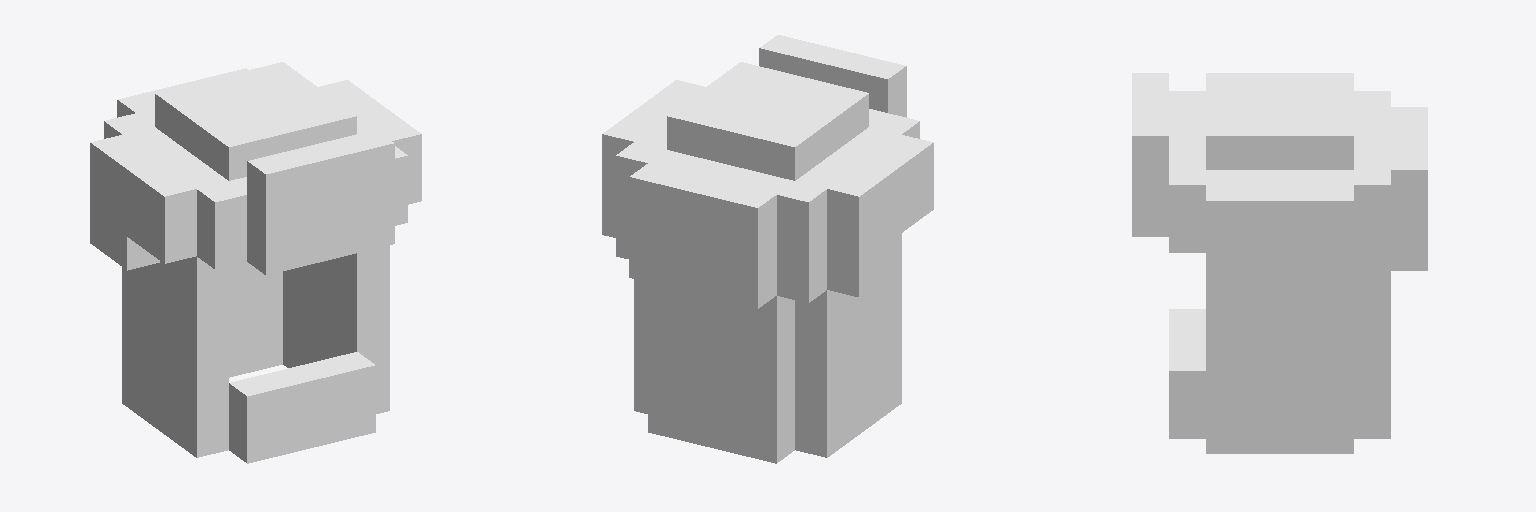
File: char-172-helm_lgt_3f_sh.obj
The picture shows the model from 3 angles: view 1: azimuth 30°, elevation 25°; view 2: azimuth 150°, elevation 25°; view 3: azimuth 270°, elevation 25°; orthographic projection.
Parts seen in each view (by area): view 1: helm_lgt_3f_sh; view 2: helm_lgt_3f_sh; view 3: helm_lgt_3f_sh.
Boxes of the visible parts, x1=… form: helm_lgt_3f_sh: x1=90, y1=62, x2=421, y2=463; helm_lgt_3f_sh: x1=602, y1=35, x2=933, y2=463; helm_lgt_3f_sh: x1=1132, y1=73, x2=1427, y2=453.
Size of the model in its own units: 0.8 by 0.9 by 0.8.